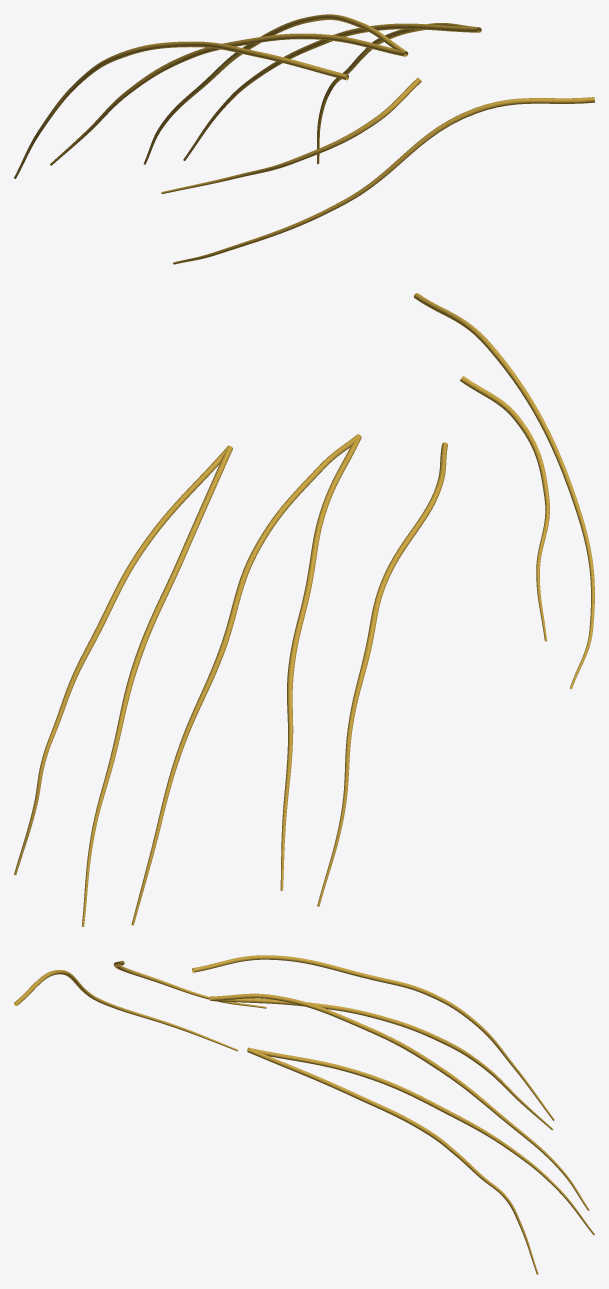
3 renders of one model, top to bottom at view 1: azimuth 30°, elevation 25°; view 2: azimuth 150°, elevation 25°; view 3: azimuth 270°, elevation 25°, orthographic. The views are drawn at different scales.
Parts seen in each view (by area): view 1: 右侧正中神经指掌侧固有神经; view 2: 右侧正中神经指掌侧固有神经; view 3: 右侧正中神经指掌侧固有神经.
Boxes of the visible parts, bbox=[...] form: 右侧正中神经指掌侧固有神经: bbox=[14, 14, 594, 264]; 右侧正中神经指掌侧固有神经: bbox=[14, 293, 594, 926]; 右侧正中神经指掌侧固有神经: bbox=[14, 955, 594, 1274].
Bounding box in the file's own units: 0.0987 × 0.09 × 0.186.
